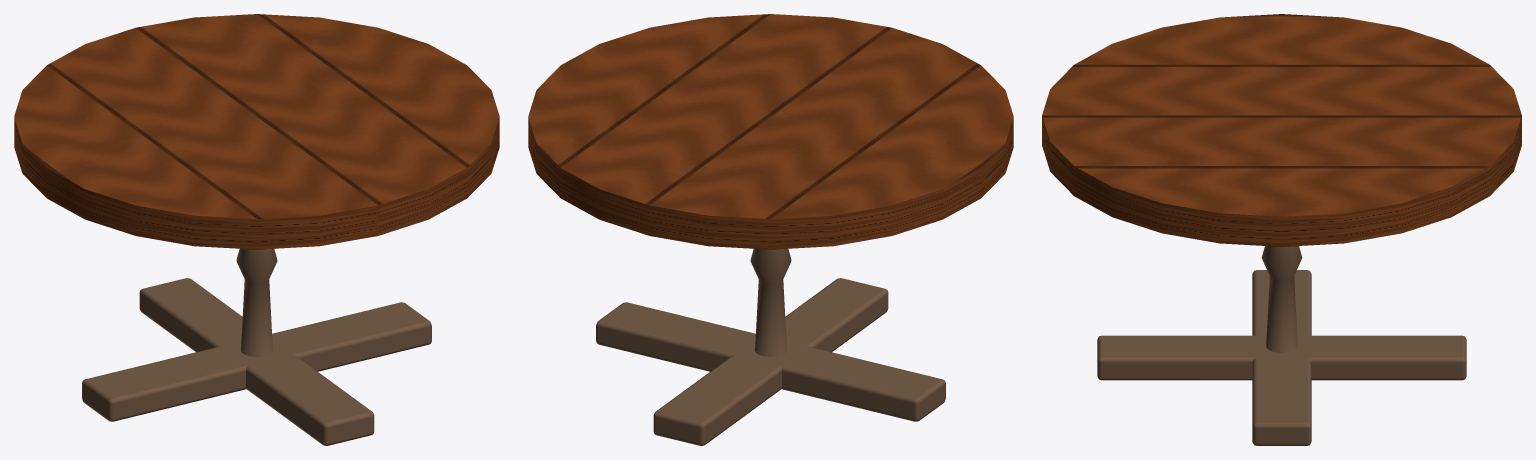
File: adventurers-tavern-and-guild-hall-round-table-fa8adf25__24689.glb
The picture shows the model from 3 angles, left to right: view 1: azimuth 30°, elevation 25°; view 2: azimuth 150°, elevation 25°; view 3: azimuth 270°, elevation 25°; orthographic projection.
Parts seen in each view (by area): view 1: round-table; view 2: round-table; view 3: round-table.
Boxes of the visible parts, x1,y1,x2,y2 form: round-table: [14, 14, 499, 445]; round-table: [528, 14, 1013, 445]; round-table: [1042, 14, 1521, 445].
Bounding box in the file's own units: 1.3 × 0.76 × 1.3.
2 materials, 1 textured.
